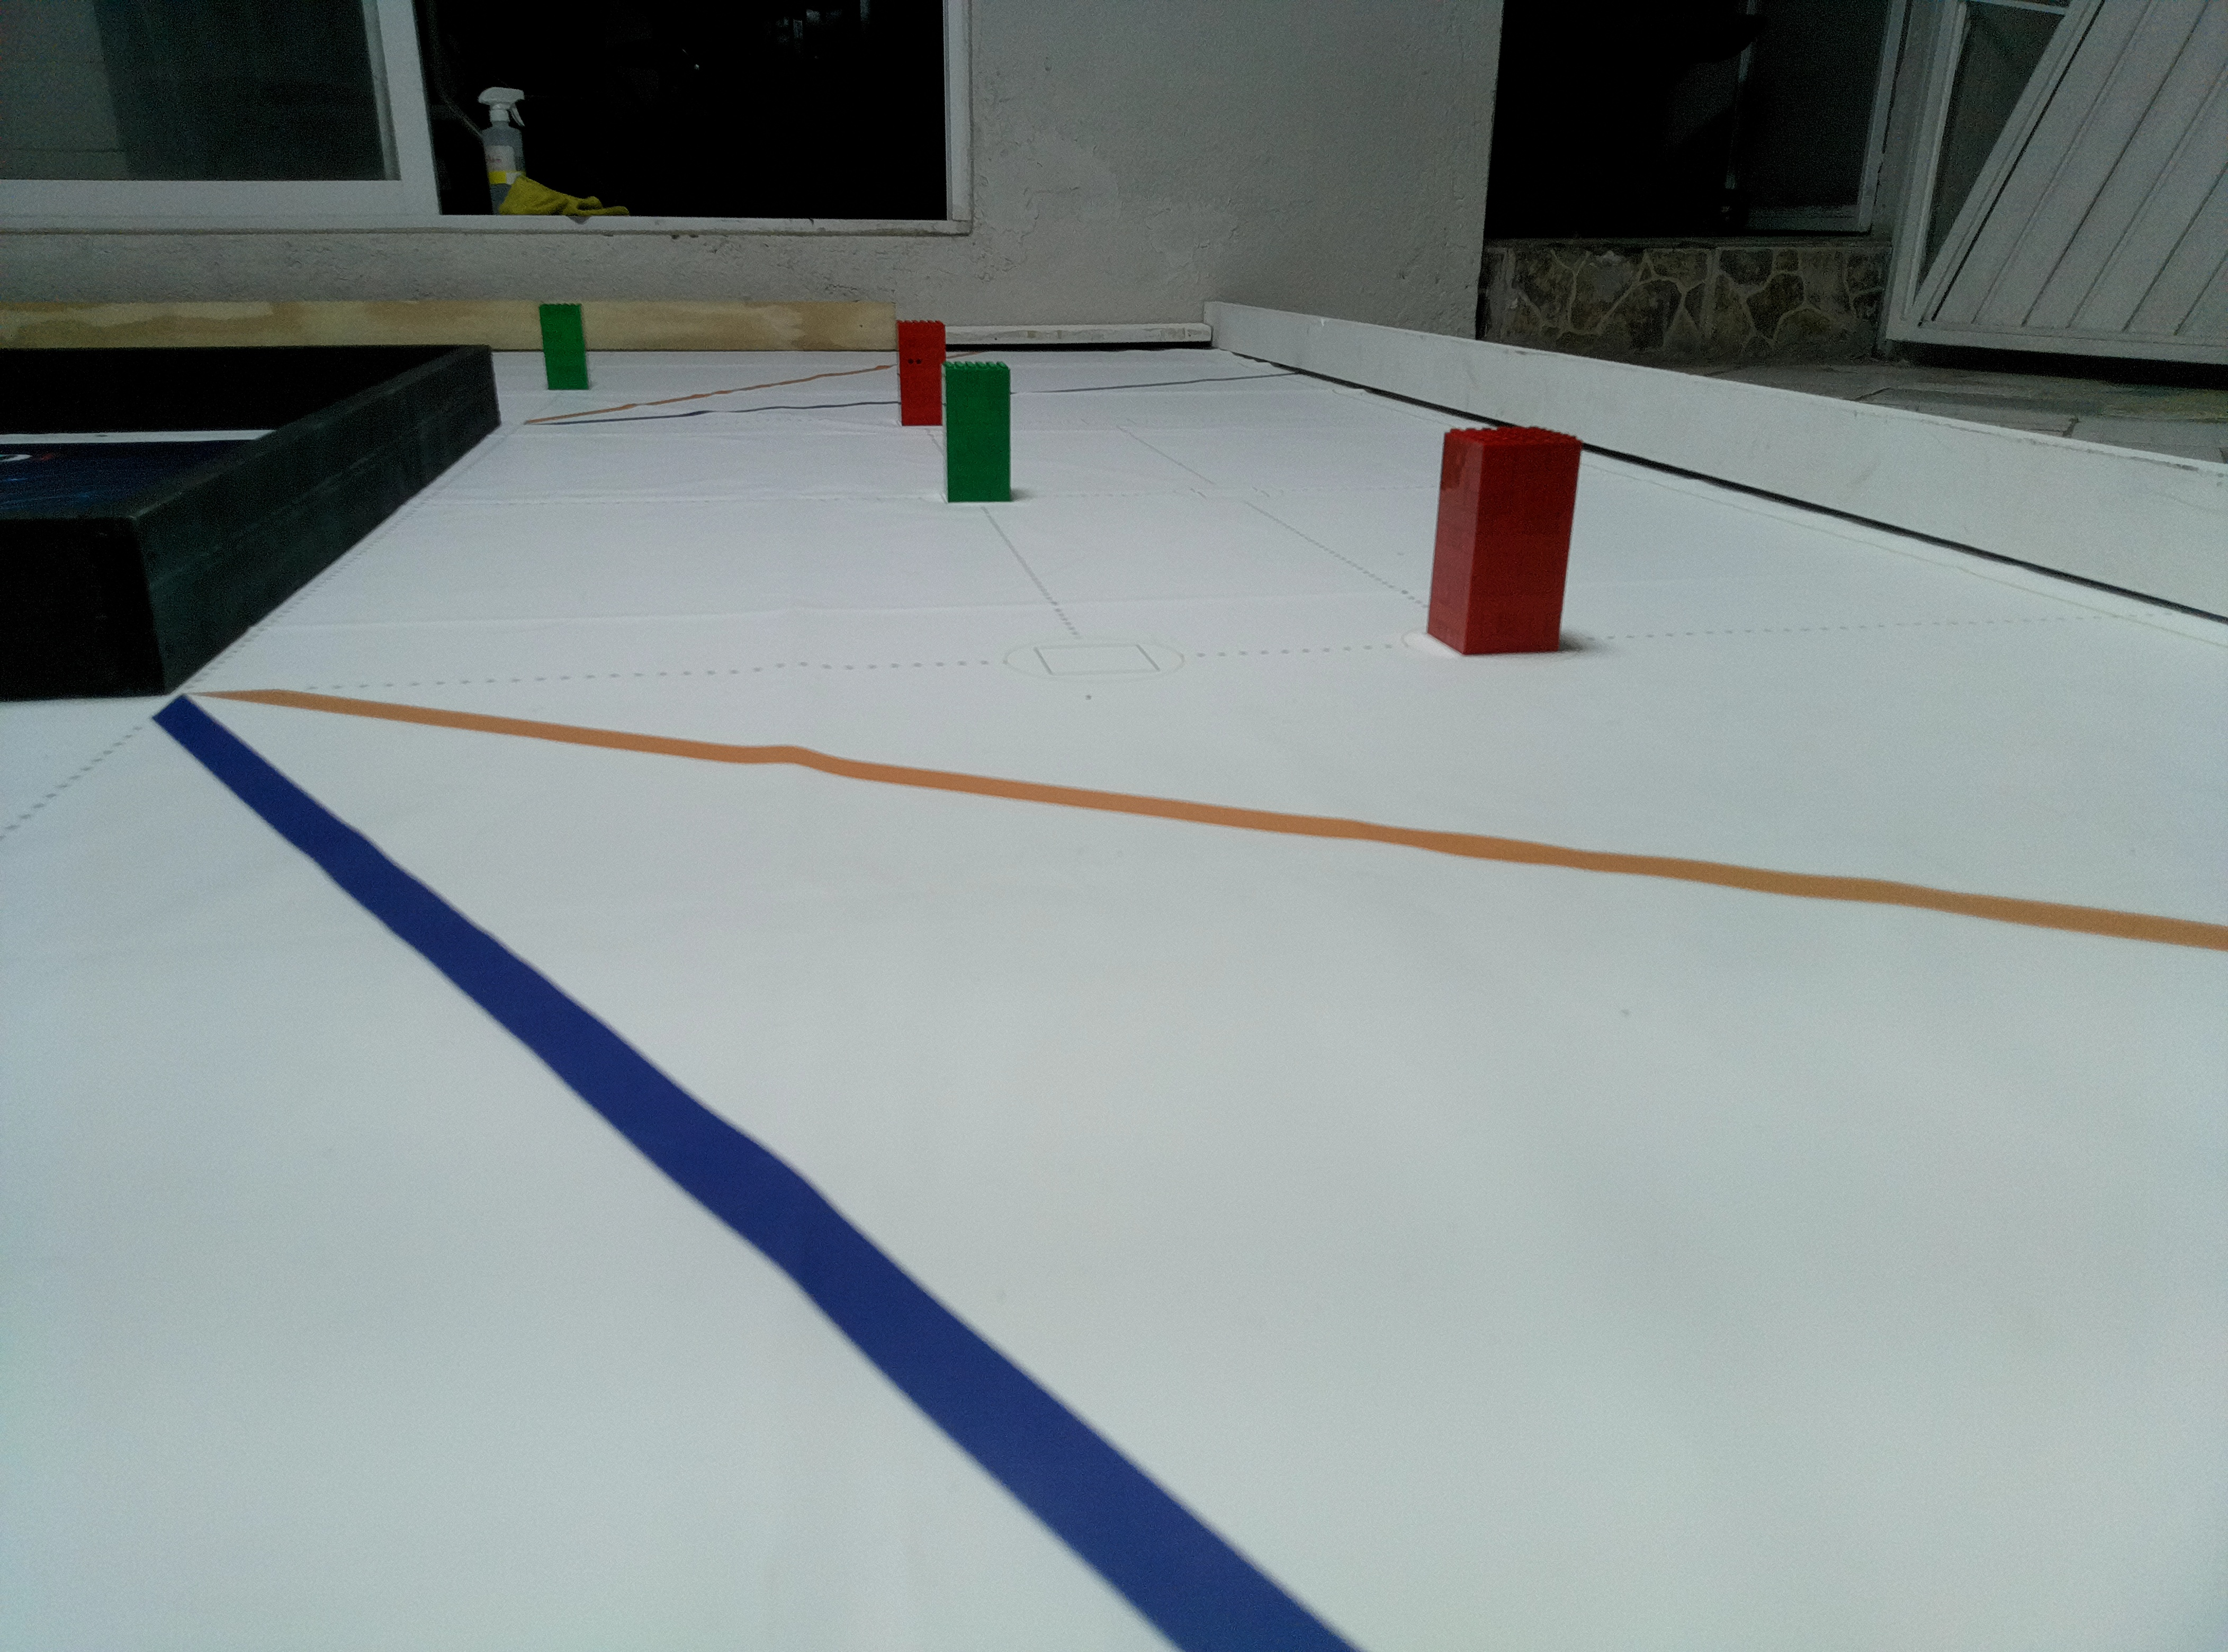greenbox: (946, 361, 1013, 500), (534, 302, 595, 392)
redbox: (1428, 427, 1586, 652), (892, 316, 946, 423)
